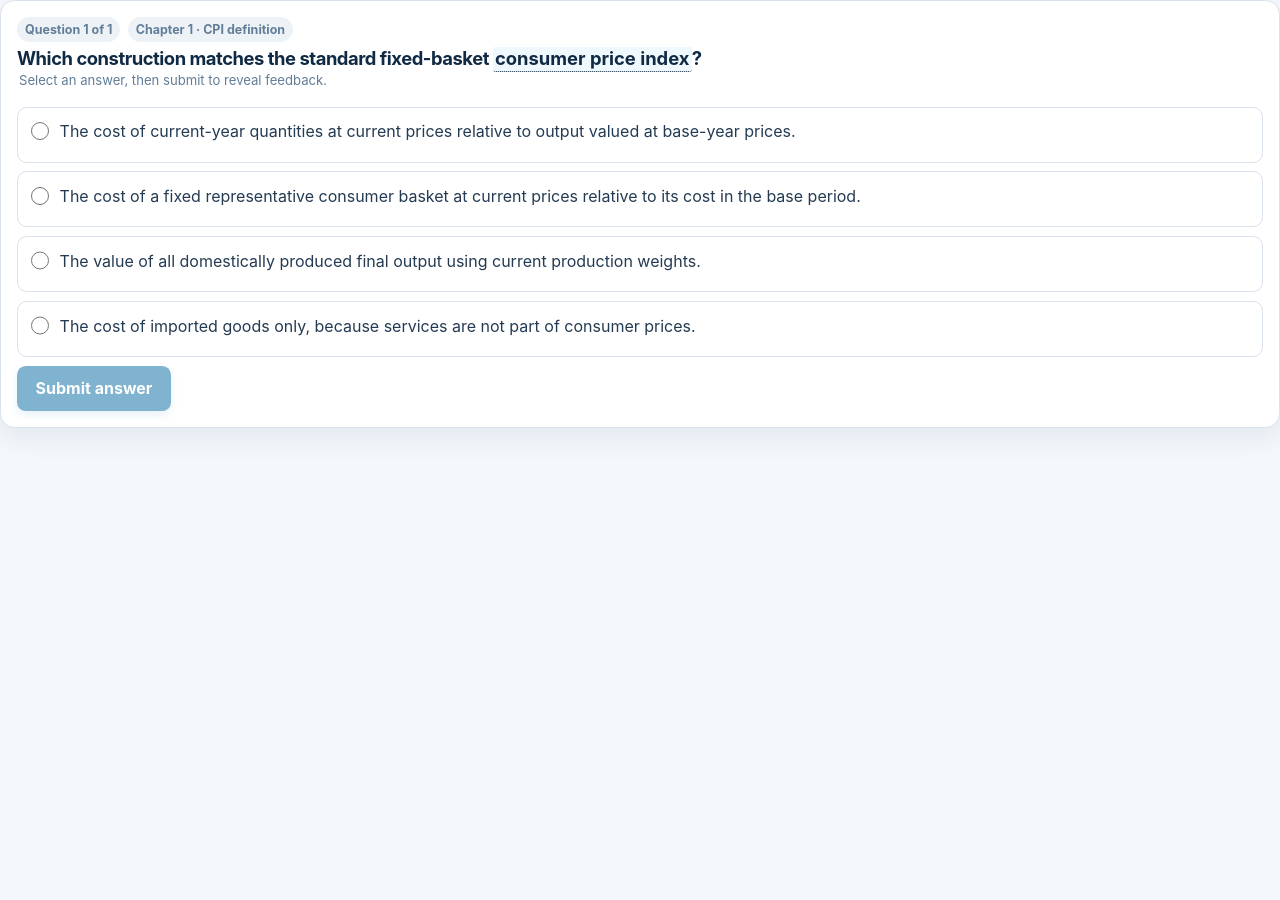
Scenario: question-aware knowledge disclosure › blocks CPI's answer-bearing explanation before auth-ch01-006 is submitted
Click the button with aria-label "consumer price index is part of the current question" at (592, 60), box [493, 47, 692, 72]
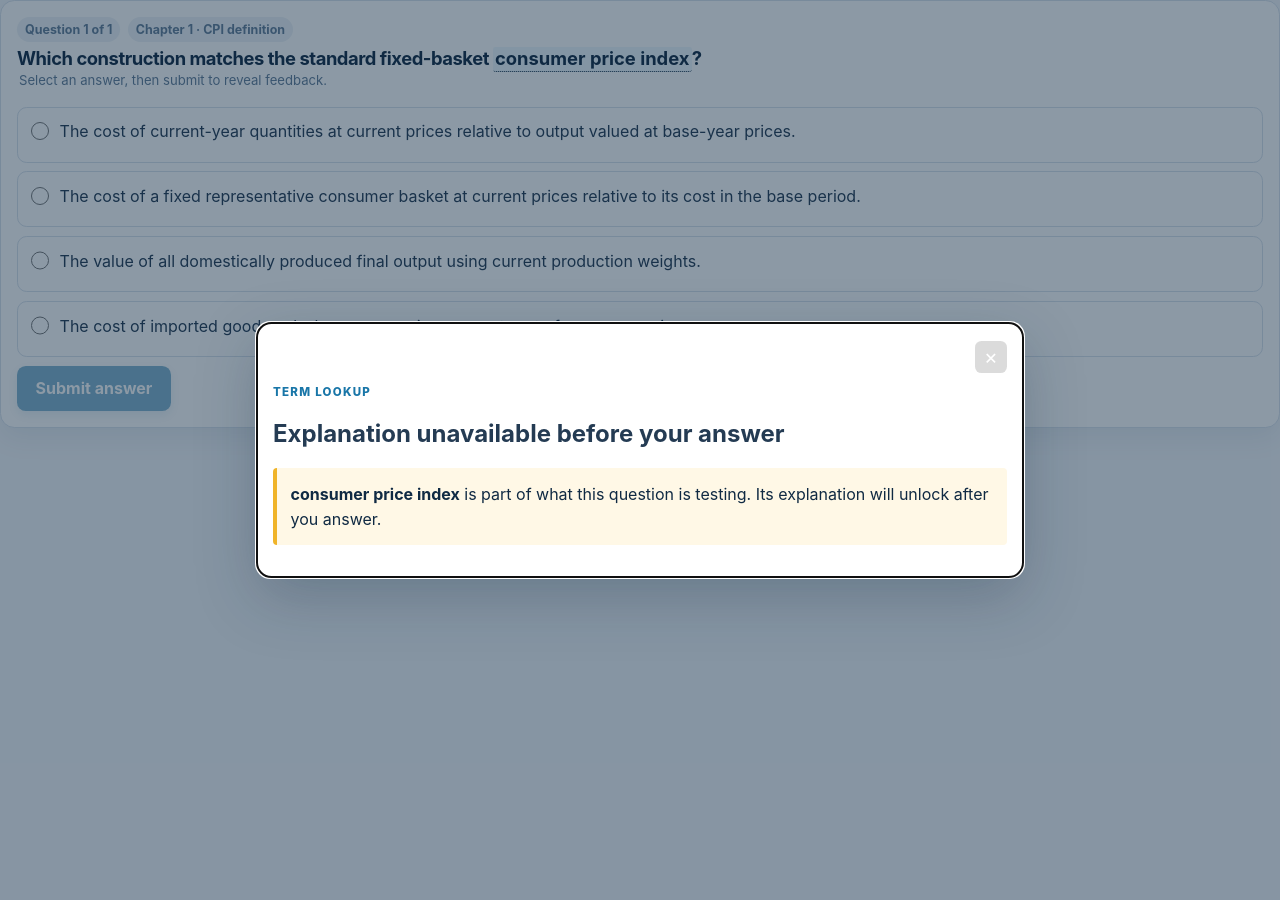
Check: the dialog does not show "base period", box [256, 322, 1024, 578]
Check: the dialog shows "Explanation unavailable before your answer", box [273, 419, 785, 448]
Check: the dialog shows "part of what this question is testing", box [291, 484, 988, 529]
Click the button named "Close explanation" at (991, 356), box [975, 340, 1007, 372]
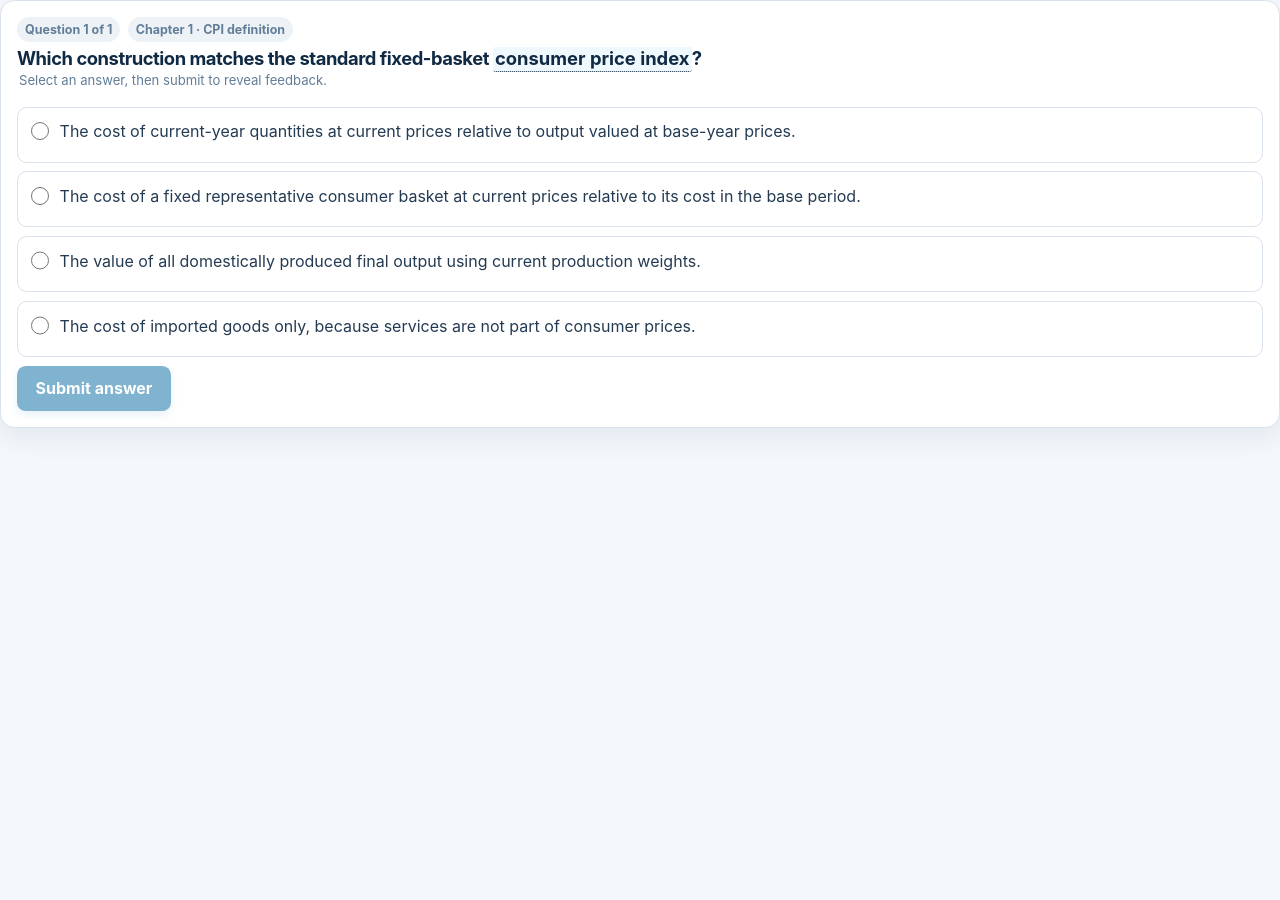
Click the 2nd radio button at (40, 196), box [31, 187, 49, 205]
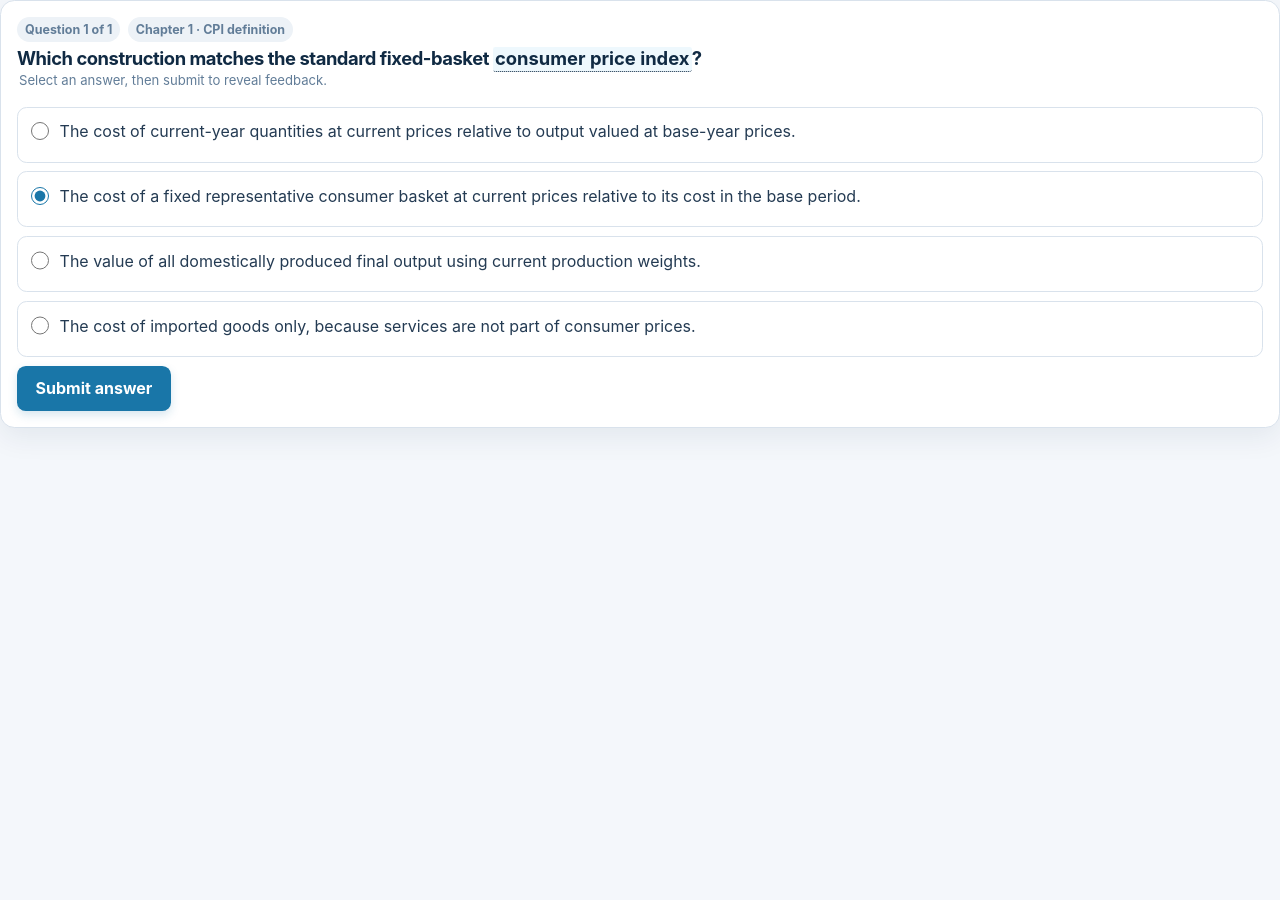
Click the button "Submit answer" at (94, 388), box [17, 366, 171, 411]
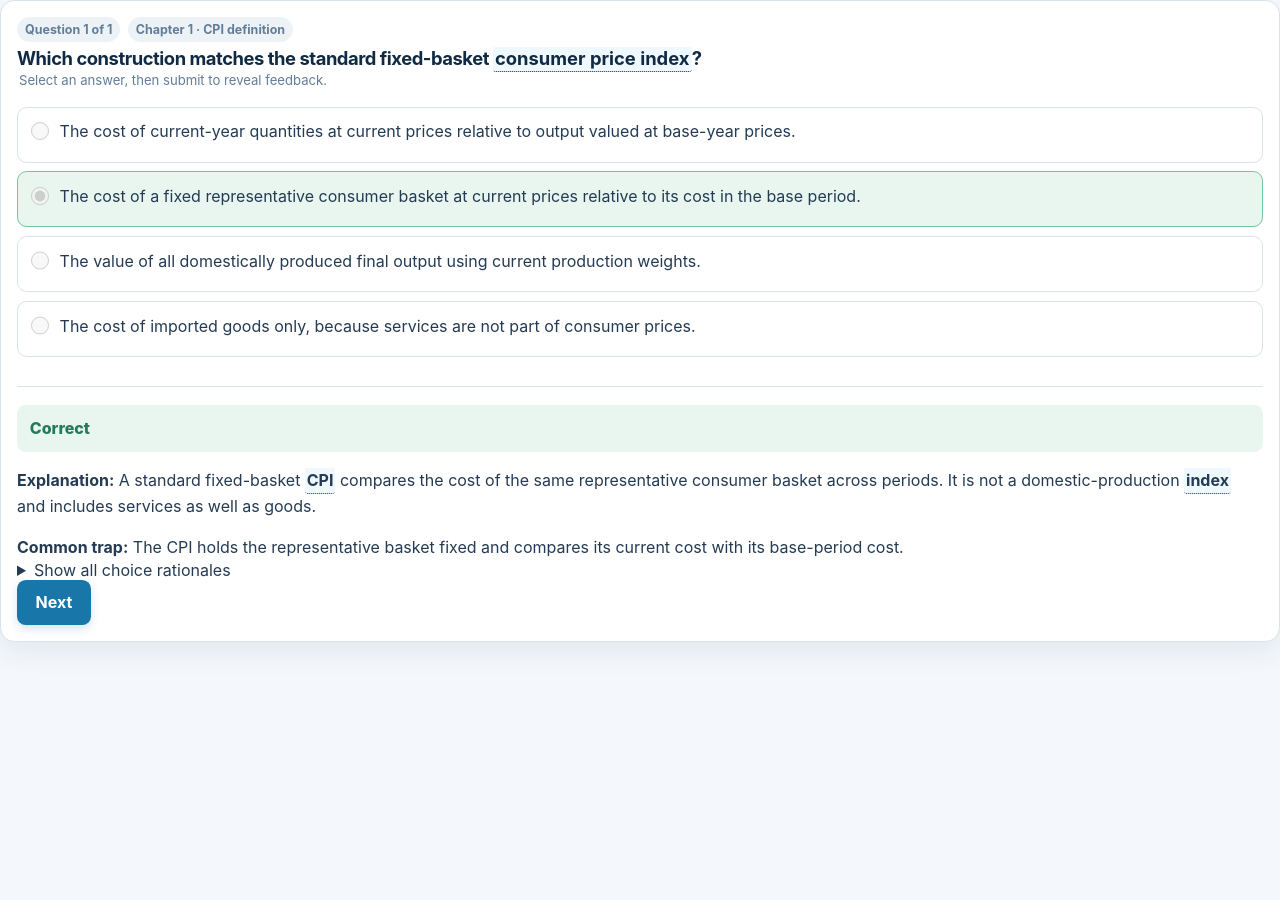
Click the button with aria-label "Explain consumer price index" at (592, 60), box [493, 47, 692, 72]
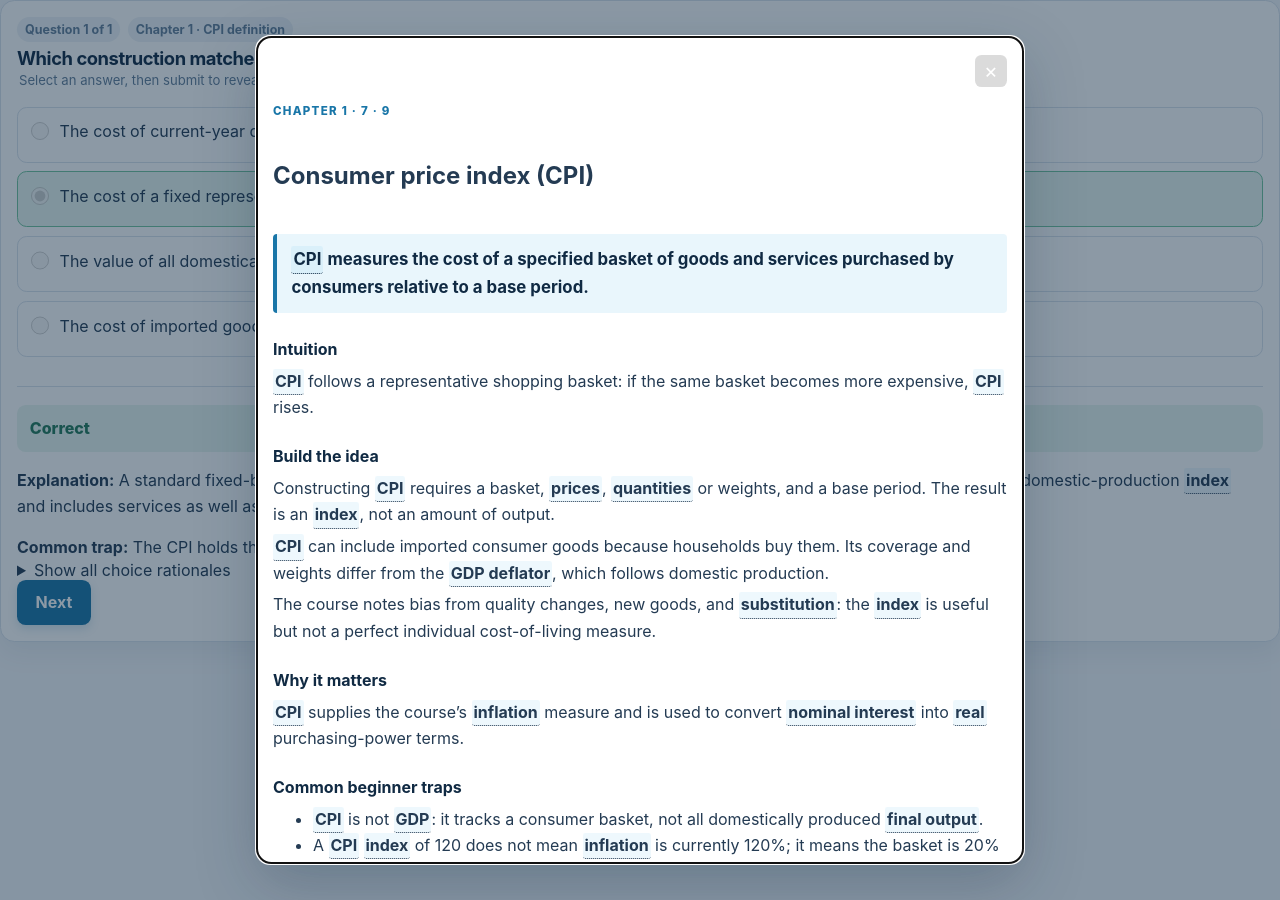
Check: the dialog shows "Build the idea", box [273, 446, 379, 466]
